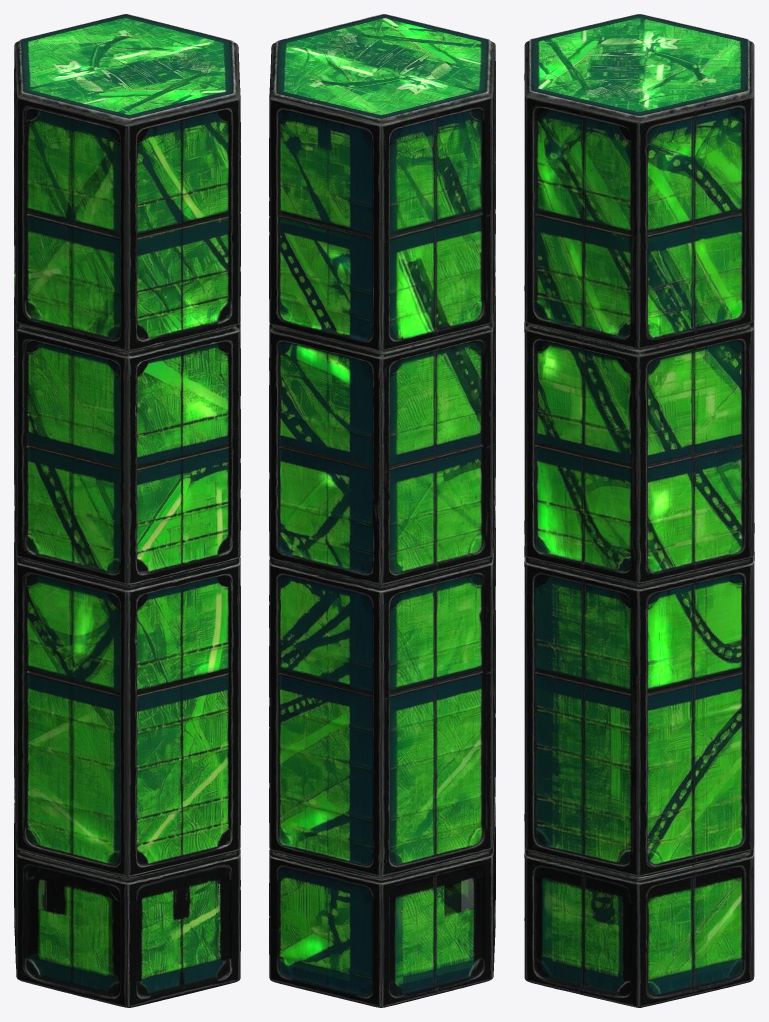
The model's file is city_tower_green_draco.glb.
The picture shows the model from 3 angles, left to right: view 1: azimuth 30°, elevation 25°; view 2: azimuth 150°, elevation 25°; view 3: azimuth 270°, elevation 25°; orthographic projection.
Bounding box in the file's own units: 0.4938 × 1.9 × 0.4443.
Materials: 1 (1 with a texture image).
